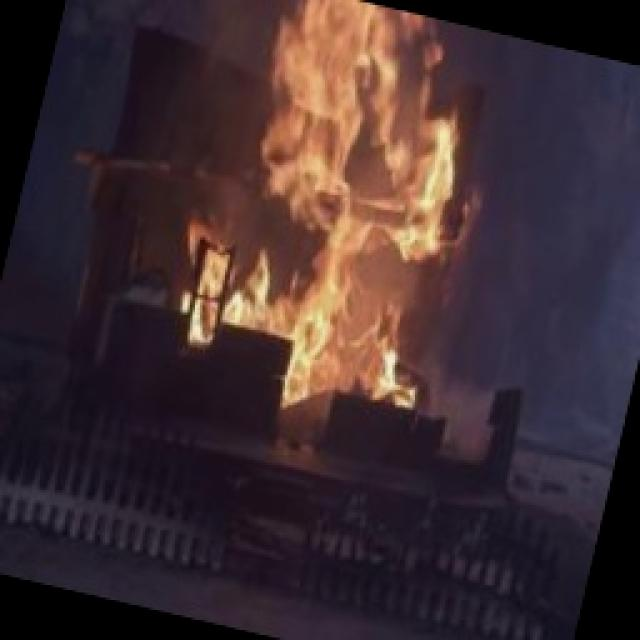fire: (128, 0, 555, 462)
